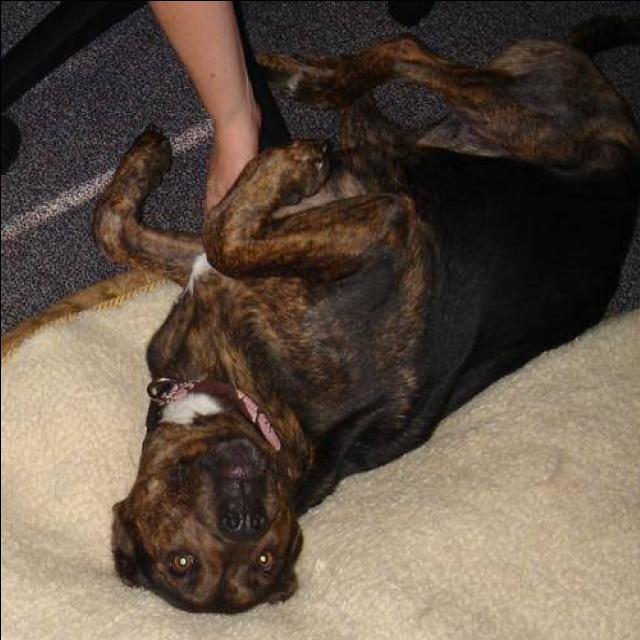dog: (81, 0, 640, 640)
